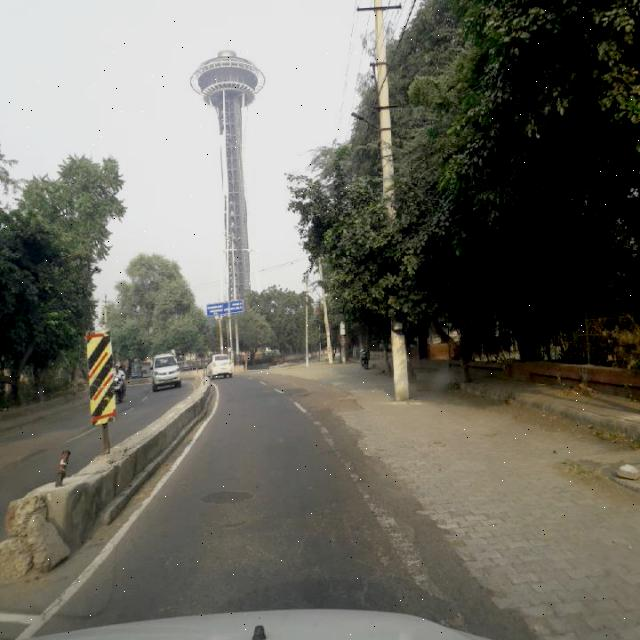D44: (366, 493, 461, 619), (276, 384, 366, 492)
